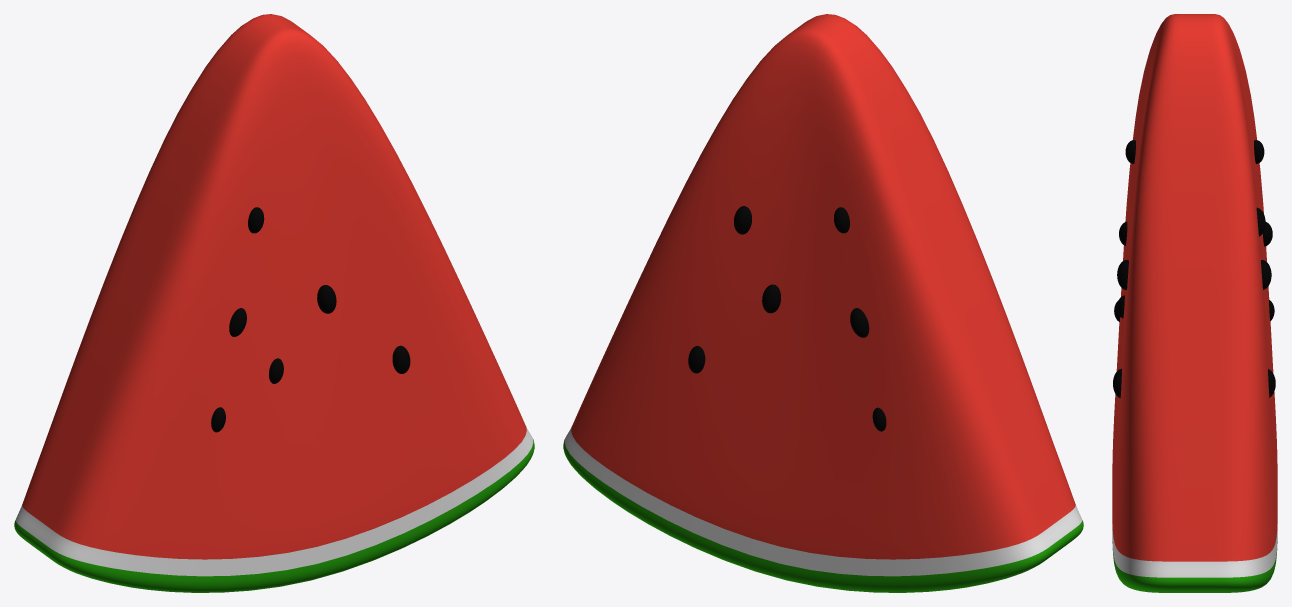
Rendered from Semangka.fbx.
3 renders of one model, left to right at view 1: azimuth 30°, elevation 25°; view 2: azimuth 150°, elevation 25°; view 3: azimuth 270°, elevation 25°, orthographic. The views are drawn at different scales.
Visible parts, largest first — view 1: Cube; view 2: Cube; view 3: Cube, Sphere.010, Sphere.001.
Part boxes in pixels (x1,y1,x2,y2): Cube: (14,14,534,592); Cube: (563,14,1083,592); Cube: (1112,14,1277,592); Sphere.010: (1117,260,1128,289); Sphere.001: (1261,260,1271,289).
Bounding box in the file's own units: 239 × 254 × 72.78.
